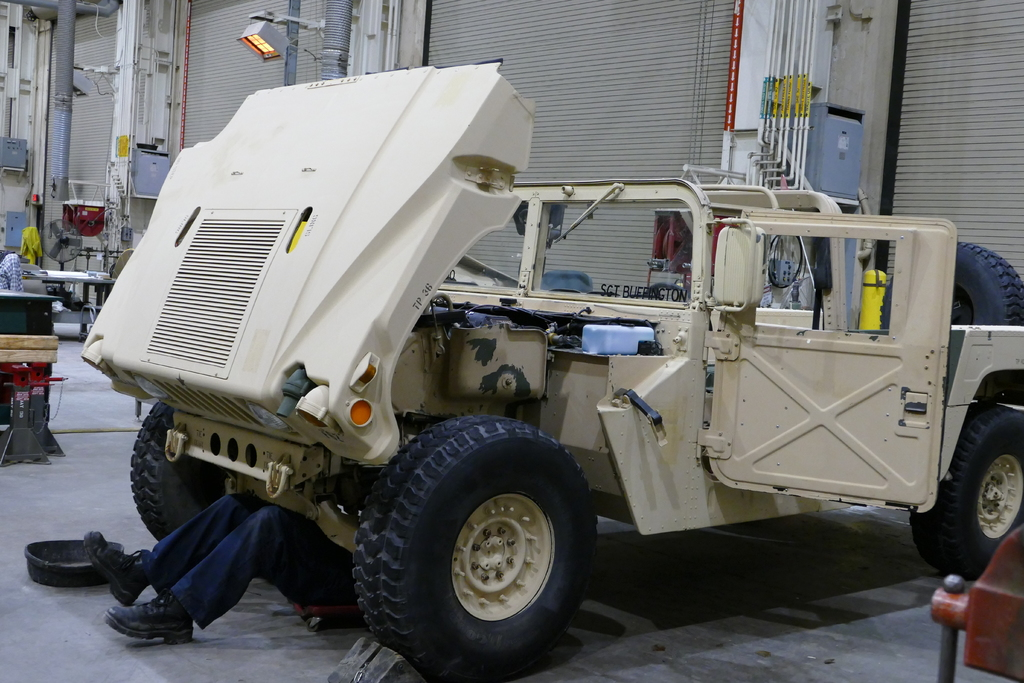Car: (78, 55, 1023, 680)
